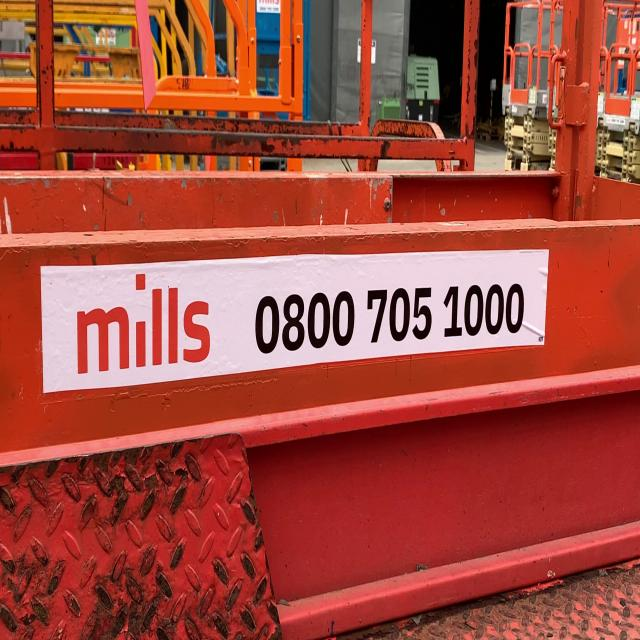Adesivo Longo: (38, 245, 551, 400)
